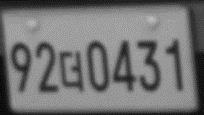0: (86, 40, 111, 92)
1: (162, 38, 190, 91)
2: (34, 41, 60, 92)
3: (137, 39, 162, 92)
4: (112, 39, 137, 92)
9: (9, 42, 32, 92)
더: (60, 50, 85, 92)
